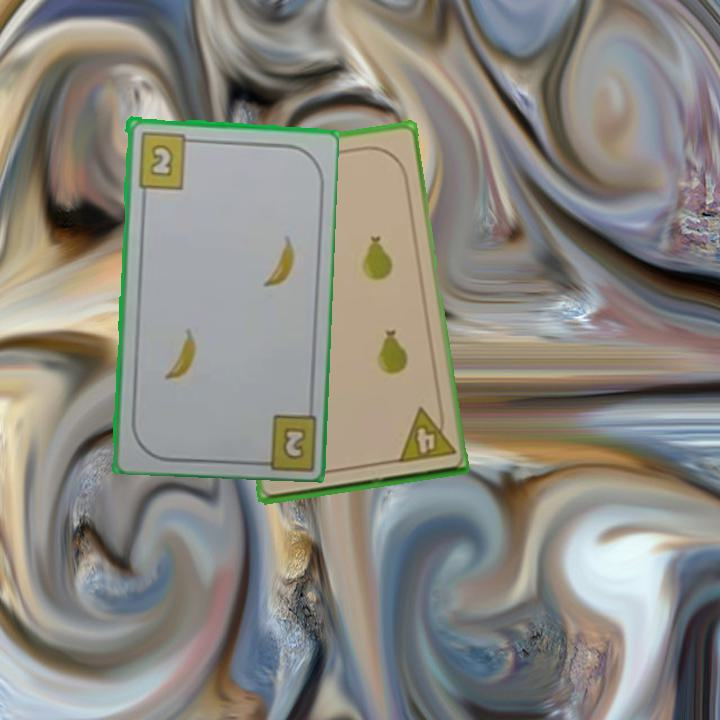2b: (135, 128, 198, 191), (281, 426, 305, 459)
4p: (393, 402, 458, 466)
